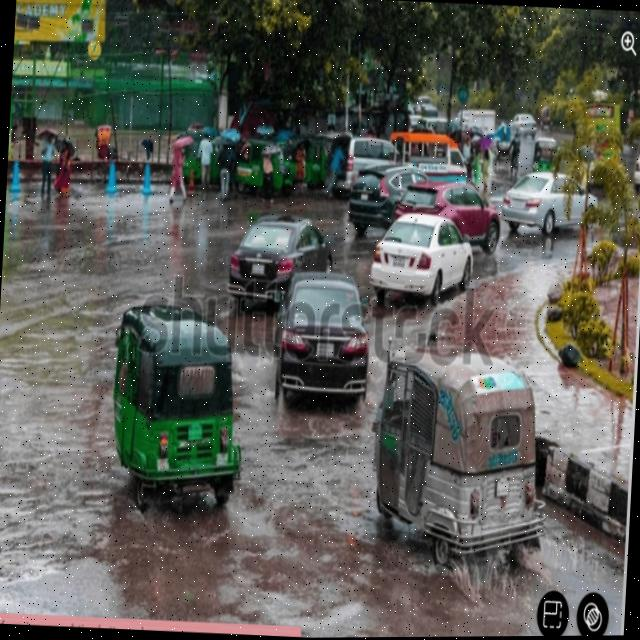cng: (362, 305, 548, 589), (103, 291, 241, 511)
